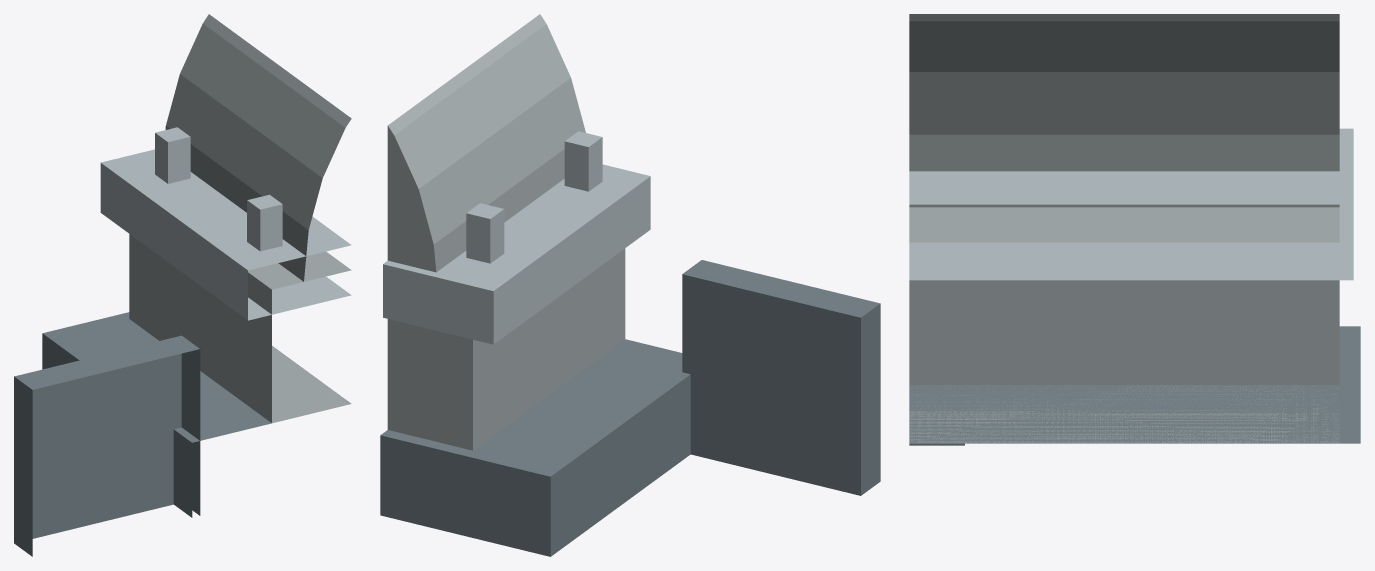
Rendered from cell_91.obj.
3 views of the same model, side by side, from view 1: azimuth 30°, elevation 25°; view 2: azimuth 150°, elevation 25°; view 3: azimuth 270°, elevation 25° (orthographic). The views are drawn at different scales.
Bounding box in the file's own units: 0.8 × 0.8634 × 0.65.
